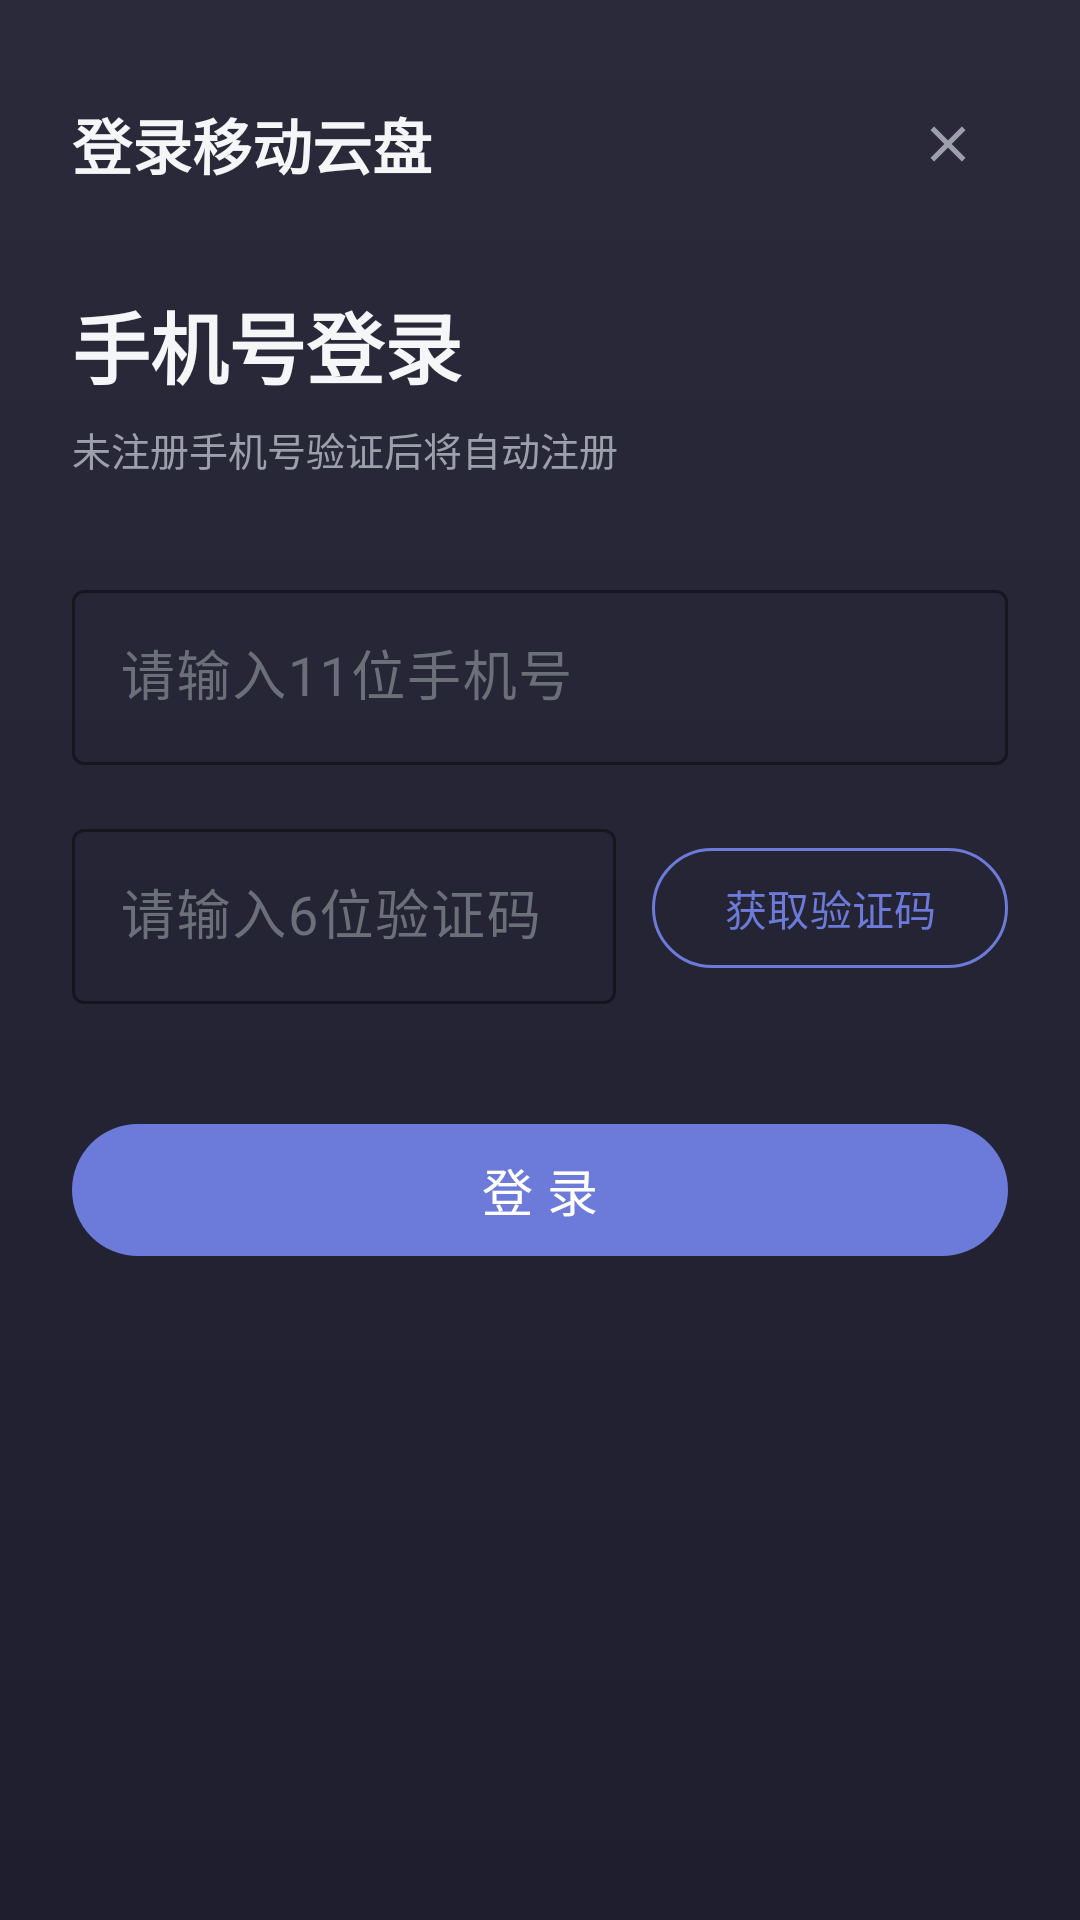

Icons on this 1080*1920 Android screen, each with its box as (x1,y1,x2,y2):
关闭: (931,127,965,161)
